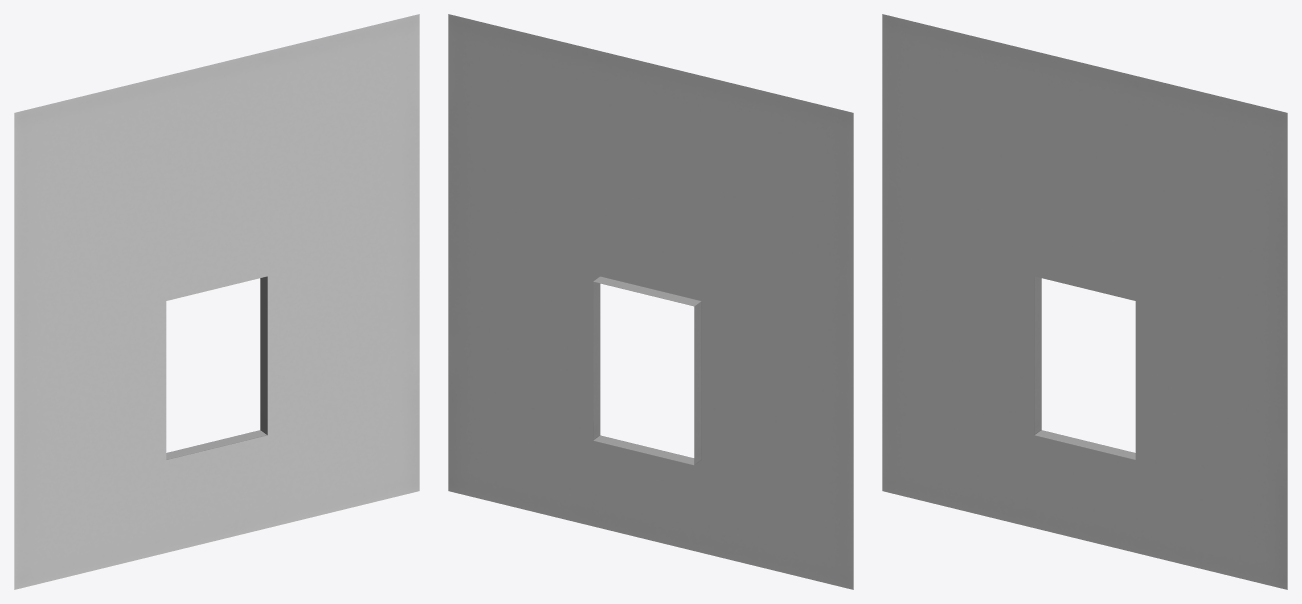
The model's file is Wall4x4_5Win1x1_5Vert.gltf.
3 views of the same model, side by side, from view 1: azimuth 30°, elevation 25°; view 2: azimuth 150°, elevation 25°; view 3: azimuth 330°, elevation 25° (orthographic).
Parts seen in each view (by area): view 1: Wall4x4_5Win1x1_5VertShape; view 2: Wall4x4_5Win1x1_5VertShape; view 3: Wall4x4_5Win1x1_5VertShape.
Part boxes in pixels (left/top/right/bottom): Wall4x4_5Win1x1_5VertShape: left=14, top=14, right=419, bottom=589; Wall4x4_5Win1x1_5VertShape: left=448, top=14, right=853, bottom=589; Wall4x4_5Win1x1_5VertShape: left=882, top=14, right=1287, bottom=589.
Bounding box in the file's own units: 4 × 4.5 × 0.125.
Materials: 1 (1 with a texture image).
